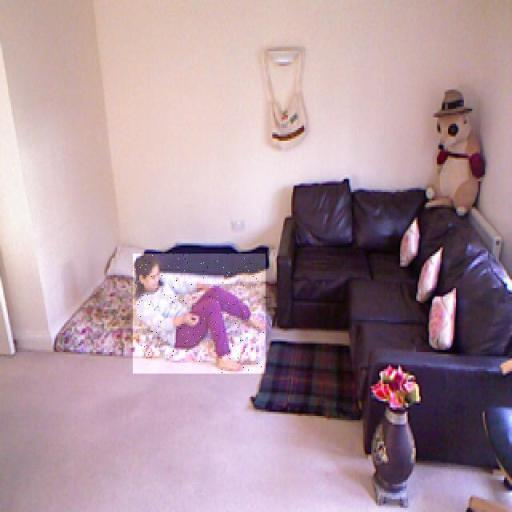Fall: (133, 254, 266, 374)
